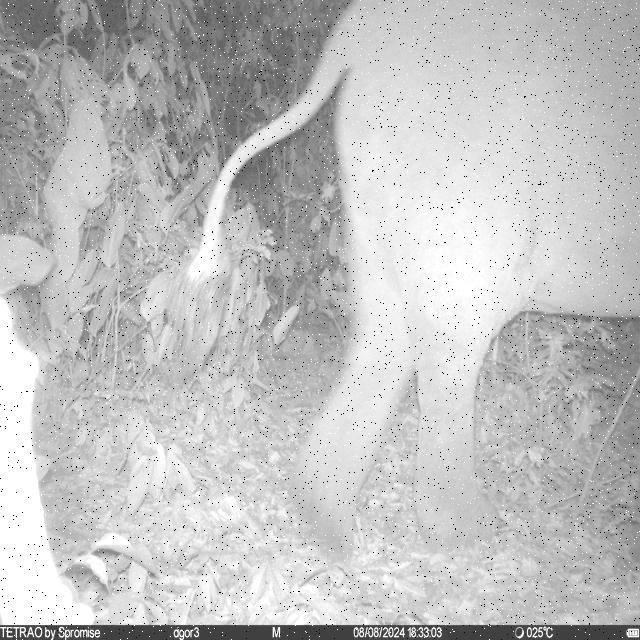elephant: (178, 0, 640, 564)
